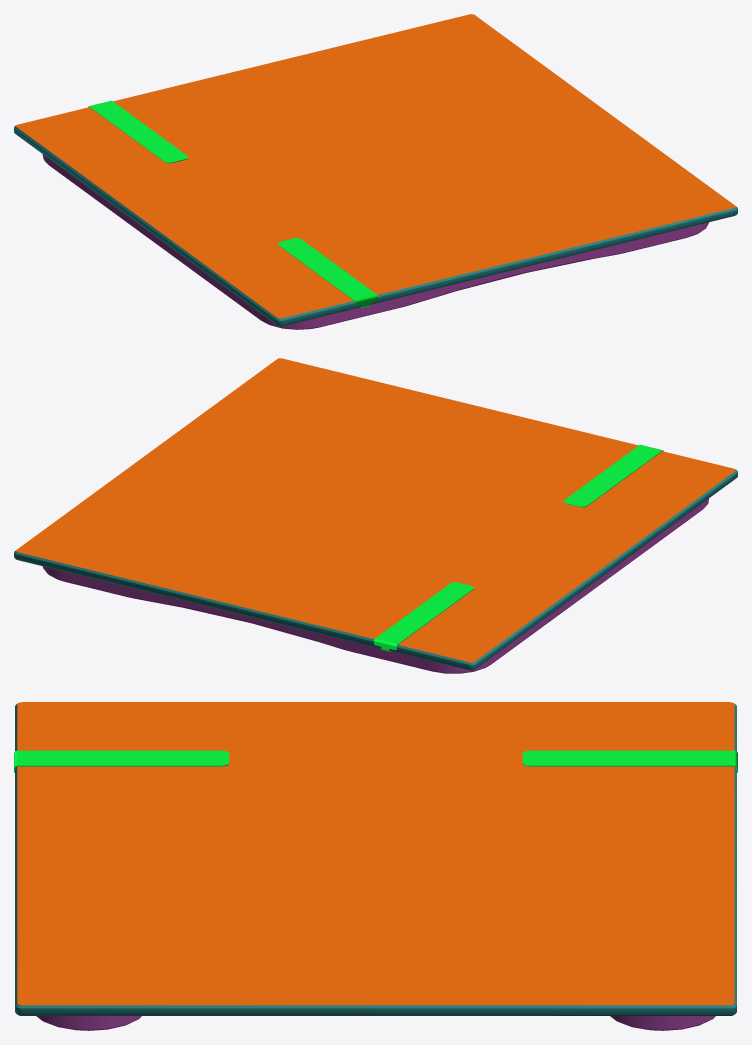
The picture shows the model from 3 angles, top to bottom: view 1: azimuth 30°, elevation 25°; view 2: azimuth 150°, elevation 25°; view 3: azimuth 270°, elevation 25°; orthographic projection. The views are drawn at different scales.
Visible parts, largest first — view 1: BF619; view 2: BF619; view 3: BF619.
Boxes of the visible parts, x1,y1,x2,y2 form: BF619: (14, 14, 737, 329); BF619: (14, 358, 737, 673); BF619: (14, 702, 737, 1030).
Bounding box in the file's own units: 30.2 × 1.93 × 30.28.
